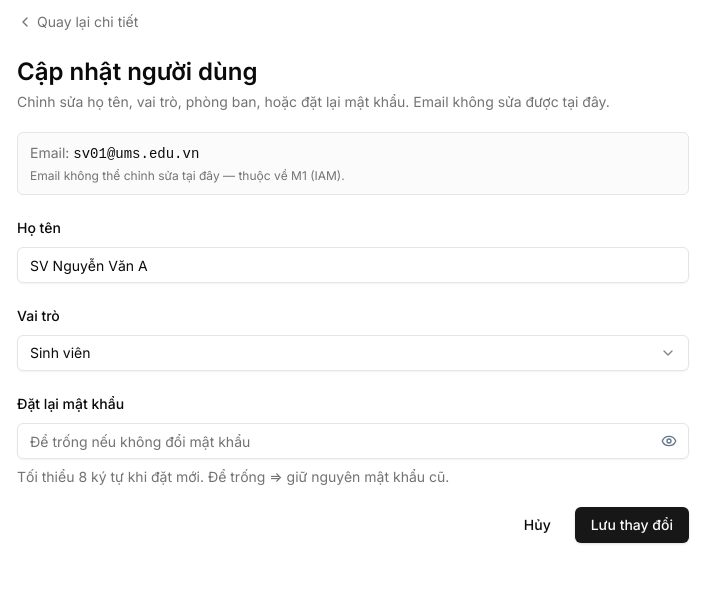
Test: UserEdit — Admin edit-user flow (FE-S16) › M31-FE-S16-X3: short password → inline field error, no PATCH
The image size is (707, 589).
Expected: the field labelled "Họ tên" is shown, [17, 247, 689, 283]
In the password field labelled "Đặt lại mật khẩu": (353, 441) [17, 423, 689, 459], type "abc"
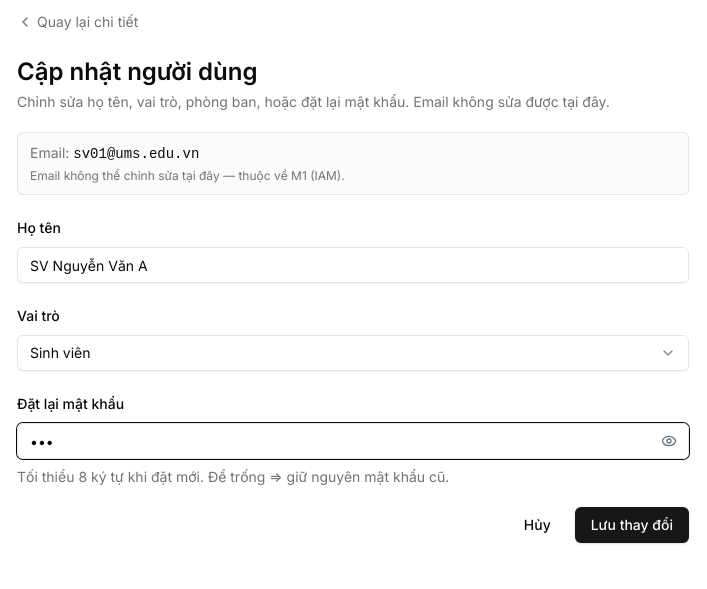
Click the button "Lưu thay đổi": click(632, 525) [575, 507, 689, 543]
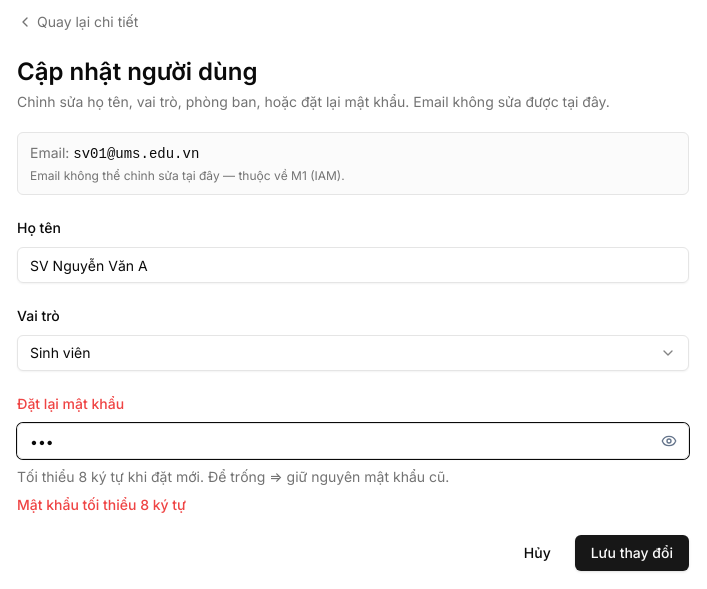
Expected: the text "Mật khẩu tối thiểu 8 ký tự" is shown, [17, 496, 186, 513]
